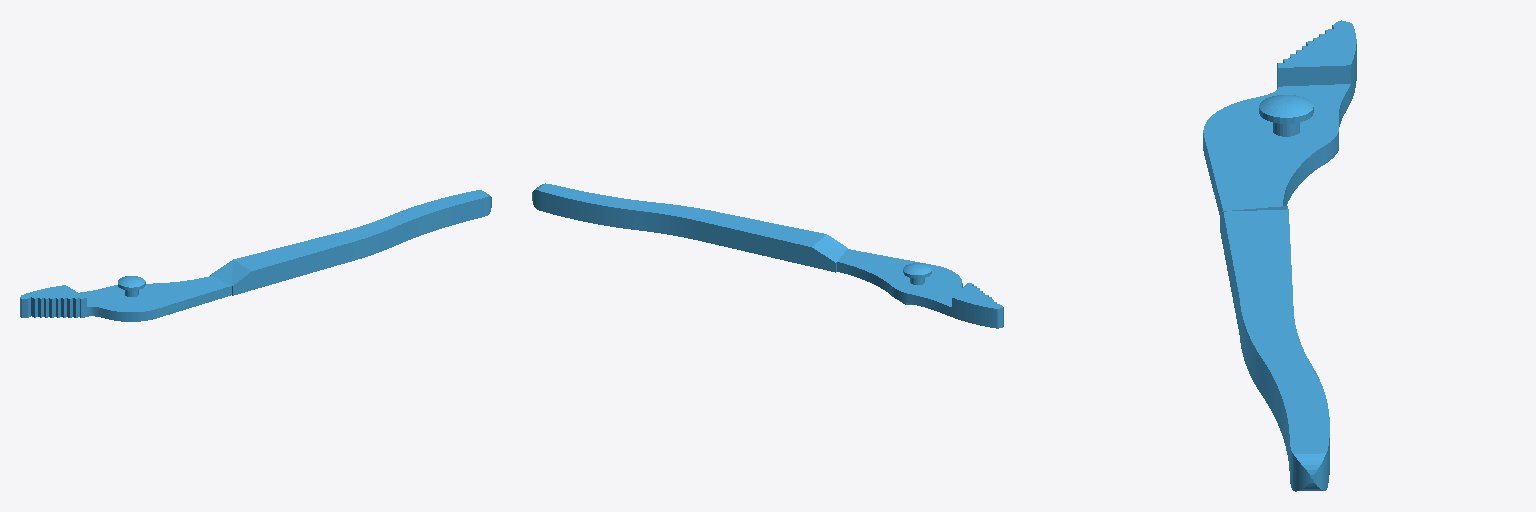
The robot description file, URDF, robot "partnet_f44029207e03c4be4c3aee8e9d3a6ffa":
<?xml version="1.0" ?>
<robot name="partnet_f44029207e03c4be4c3aee8e9d3a6ffa">
	<link name="base"/>
	<link name="link_0">
		<visual name="back_panel-50">
			<origin xyz="0 0 0"/>
			<geometry>
				<mesh filename="textured_objs/original-15.obj"/>
			</geometry>
		</visual>
		<visual name="bottom_panel-51">
			<origin xyz="0 0 0"/>
			<geometry>
				<mesh filename="textured_objs/original-10.obj"/>
			</geometry>
		</visual>
		<visual name="bottom_panel-51">
			<origin xyz="0 0 0"/>
			<geometry>
				<mesh filename="textured_objs/original-9.obj"/>
			</geometry>
		</visual>
		<visual name="top_panel-52">
			<origin xyz="0 0 0"/>
			<geometry>
				<mesh filename="textured_objs/original-13.obj"/>
			</geometry>
		</visual>
		<visual name="top_panel-52">
			<origin xyz="0 0 0"/>
			<geometry>
				<mesh filename="textured_objs/original-12.obj"/>
			</geometry>
		</visual>
		<visual name="frame_horizontal_bar-55">
			<origin xyz="0 0 0"/>
			<geometry>
				<mesh filename="textured_objs/original-16.obj"/>
			</geometry>
		</visual>
		<visual name="frame_horizontal_bar-56">
			<origin xyz="0 0 0"/>
			<geometry>
				<mesh filename="textured_objs/original-14.obj"/>
			</geometry>
		</visual>
		<visual name="vertical_side_panel-59">
			<origin xyz="0 0 0"/>
			<geometry>
				<mesh filename="textured_objs/original-7.obj"/>
			</geometry>
		</visual>
		<visual name="vertical_side_panel-59">
			<origin xyz="0 0 0"/>
			<geometry>
				<mesh filename="textured_objs/original-6.obj"/>
			</geometry>
		</visual>
		<visual name="vertical_side_panel-60">
			<origin xyz="0 0 0"/>
			<geometry>
				<mesh filename="textured_objs/original-4.obj"/>
			</geometry>
		</visual>
		<visual name="vertical_side_panel-60">
			<origin xyz="0 0 0"/>
			<geometry>
				<mesh filename="textured_objs/original-3.obj"/>
			</geometry>
		</visual>
		<collision>
			<origin xyz="0 0 0"/>
			<geometry>
				<mesh filename="textured_objs/original-15.obj"/>
			</geometry>
		</collision>
		<collision>
			<origin xyz="0 0 0"/>
			<geometry>
				<mesh filename="textured_objs/original-10.obj"/>
			</geometry>
		</collision>
		<collision>
			<origin xyz="0 0 0"/>
			<geometry>
				<mesh filename="textured_objs/original-9.obj"/>
			</geometry>
		</collision>
		<collision>
			<origin xyz="0 0 0"/>
			<geometry>
				<mesh filename="textured_objs/original-13.obj"/>
			</geometry>
		</collision>
		<collision>
			<origin xyz="0 0 0"/>
			<geometry>
				<mesh filename="textured_objs/original-12.obj"/>
			</geometry>
		</collision>
		<collision>
			<origin xyz="0 0 0"/>
			<geometry>
				<mesh filename="textured_objs/original-16.obj"/>
			</geometry>
		</collision>
		<collision>
			<origin xyz="0 0 0"/>
			<geometry>
				<mesh filename="textured_objs/original-14.obj"/>
			</geometry>
		</collision>
		<collision>
			<origin xyz="0 0 0"/>
			<geometry>
				<mesh filename="textured_objs/original-7.obj"/>
			</geometry>
		</collision>
		<collision>
			<origin xyz="0 0 0"/>
			<geometry>
				<mesh filename="textured_objs/original-6.obj"/>
			</geometry>
		</collision>
		<collision>
			<origin xyz="0 0 0"/>
			<geometry>
				<mesh filename="textured_objs/original-4.obj"/>
			</geometry>
		</collision>
		<collision>
			<origin xyz="0 0 0"/>
			<geometry>
				<mesh filename="textured_objs/original-3.obj"/>
			</geometry>
		</collision>
	</link>
	<joint name="joint_0" type="fixed">
		<origin rpy="1.570796326794897 0 -1.570796326794897" xyz="0 0 0"/>
		<child link="link_0"/>
		<parent link="base"/>
	</joint>
	<link name="link_1">
		<visual name="drawer_front-43">
			<origin xyz="0 0 0"/>
			<geometry>
				<mesh filename="textured_objs/original-18.obj"/>
			</geometry>
		</visual>
		<visual name="drawer_front-43">
			<origin xyz="0 0 0"/>
			<geometry>
				<mesh filename="textured_objs/original-25.obj"/>
			</geometry>
		</visual>
		<visual name="drawer_side-44">
			<origin xyz="0 0 0"/>
			<geometry>
				<mesh filename="textured_objs/original-24.obj"/>
			</geometry>
		</visual>
		<visual name="drawer_side-45">
			<origin xyz="0 0 0"/>
			<geometry>
				<mesh filename="textured_objs/original-23.obj"/>
			</geometry>
		</visual>
		<visual name="drawer_back-46">
			<origin xyz="0 0 0"/>
			<geometry>
				<mesh filename="textured_objs/original-26.obj"/>
			</geometry>
		</visual>
		<visual name="drawer_bottom-47">
			<origin xyz="0 0 0"/>
			<geometry>
				<mesh filename="textured_objs/original-21.obj"/>
			</geometry>
		</visual>
		<visual name="drawer_bottom-47">
			<origin xyz="0 0 0"/>
			<geometry>
				<mesh filename="textured_objs/original-22.obj"/>
			</geometry>
		</visual>
		<visual name="handle-40">
			<origin xyz="0 0 0"/>
			<geometry>
				<mesh filename="textured_objs/original-31.obj"/>
			</geometry>
		</visual>
		<visual name="handle-40">
			<origin xyz="0 0 0"/>
			<geometry>
				<mesh filename="textured_objs/original-30.obj"/>
			</geometry>
		</visual>
		<visual name="handle-40">
			<origin xyz="0 0 0"/>
			<geometry>
				<mesh filename="textured_objs/original-32.obj"/>
			</geometry>
		</visual>
		<visual name="drawer_rails-41">
			<origin xyz="0 0 0"/>
			<geometry>
				<mesh filename="textured_objs/original-27.obj"/>
			</geometry>
		</visual>
		<visual name="drawer_rails-42">
			<origin xyz="0 0 0"/>
			<geometry>
				<mesh filename="textured_objs/original-28.obj"/>
			</geometry>
		</visual>
		<collision>
			<origin xyz="0 0 0"/>
			<geometry>
				<mesh filename="textured_objs/original-18.obj"/>
			</geometry>
		</collision>
		<collision>
			<origin xyz="0 0 0"/>
			<geometry>
				<mesh filename="textured_objs/original-25.obj"/>
			</geometry>
		</collision>
		<collision>
			<origin xyz="0 0 0"/>
			<geometry>
				<mesh filename="textured_objs/original-24.obj"/>
			</geometry>
		</collision>
		<collision>
			<origin xyz="0 0 0"/>
			<geometry>
				<mesh filename="textured_objs/original-23.obj"/>
			</geometry>
		</collision>
		<collision>
			<origin xyz="0 0 0"/>
			<geometry>
				<mesh filename="textured_objs/original-26.obj"/>
			</geometry>
		</collision>
		<collision>
			<origin xyz="0 0 0"/>
			<geometry>
				<mesh filename="textured_objs/original-21.obj"/>
			</geometry>
		</collision>
		<collision>
			<origin xyz="0 0 0"/>
			<geometry>
				<mesh filename="textured_objs/original-22.obj"/>
			</geometry>
		</collision>
		<collision>
			<origin xyz="0 0 0"/>
			<geometry>
				<mesh filename="textured_objs/original-31.obj"/>
			</geometry>
		</collision>
		<collision>
			<origin xyz="0 0 0"/>
			<geometry>
				<mesh filename="textured_objs/original-30.obj"/>
			</geometry>
		</collision>
		<collision>
			<origin xyz="0 0 0"/>
			<geometry>
				<mesh filename="textured_objs/original-32.obj"/>
			</geometry>
		</collision>
		<collision>
			<origin xyz="0 0 0"/>
			<geometry>
				<mesh filename="textured_objs/original-27.obj"/>
			</geometry>
		</collision>
		<collision>
			<origin xyz="0 0 0"/>
			<geometry>
				<mesh filename="textured_objs/original-28.obj"/>
			</geometry>
		</collision>
	</link>
	<joint name="joint_1" type="prismatic">
		<origin xyz="0 0 0"/>
		<axis xyz="0 0 1"/>
		<child link="link_1"/>
		<parent link="link_0"/>
		<limit lower="0" upper="1"/>
	</joint>
	<link name="link_2">
		<visual name="drawer_front-34">
			<origin xyz="0 0 0"/>
			<geometry>
				<mesh filename="textured_objs/original-34.obj"/>
			</geometry>
		</visual>
		<visual name="drawer_front-34">
			<origin xyz="0 0 0"/>
			<geometry>
				<mesh filename="textured_objs/original-41.obj"/>
			</geometry>
		</visual>
		<visual name="drawer_side-35">
			<origin xyz="0 0 0"/>
			<geometry>
				<mesh filename="textured_objs/original-39.obj"/>
			</geometry>
		</visual>
		<visual name="drawer_side-36">
			<origin xyz="0 0 0"/>
			<geometry>
				<mesh filename="textured_objs/original-40.obj"/>
			</geometry>
		</visual>
		<visual name="drawer_back-37">
			<origin xyz="0 0 0"/>
			<geometry>
				<mesh filename="textured_objs/original-42.obj"/>
			</geometry>
		</visual>
		<visual name="drawer_bottom-38">
			<origin xyz="0 0 0"/>
			<geometry>
				<mesh filename="textured_objs/original-37.obj"/>
			</geometry>
		</visual>
		<visual name="drawer_bottom-38">
			<origin xyz="0 0 0"/>
			<geometry>
				<mesh filename="textured_objs/original-38.obj"/>
			</geometry>
		</visual>
		<visual name="handle-31">
			<origin xyz="0 0 0"/>
			<geometry>
				<mesh filename="textured_objs/original-46.obj"/>
			</geometry>
		</visual>
		<visual name="handle-31">
			<origin xyz="0 0 0"/>
			<geometry>
				<mesh filename="textured_objs/original-47.obj"/>
			</geometry>
		</visual>
		<visual name="handle-31">
			<origin xyz="0 0 0"/>
			<geometry>
				<mesh filename="textured_objs/original-48.obj"/>
			</geometry>
		</visual>
		<visual name="drawer_rails-32">
			<origin xyz="0 0 0"/>
			<geometry>
				<mesh filename="textured_objs/original-43.obj"/>
			</geometry>
		</visual>
		<visual name="drawer_rails-33">
			<origin xyz="0 0 0"/>
			<geometry>
				<mesh filename="textured_objs/original-44.obj"/>
			</geometry>
		</visual>
		<collision>
			<origin xyz="0 0 0"/>
			<geometry>
				<mesh filename="textured_objs/original-34.obj"/>
			</geometry>
		</collision>
		<collision>
			<origin xyz="0 0 0"/>
			<geometry>
				<mesh filename="textured_objs/original-41.obj"/>
			</geometry>
		</collision>
		<collision>
			<origin xyz="0 0 0"/>
			<geometry>
				<mesh filename="textured_objs/original-39.obj"/>
			</geometry>
		</collision>
		<collision>
			<origin xyz="0 0 0"/>
			<geometry>
				<mesh filename="textured_objs/original-40.obj"/>
			</geometry>
		</collision>
		<collision>
			<origin xyz="0 0 0"/>
			<geometry>
				<mesh filename="textured_objs/original-42.obj"/>
			</geometry>
		</collision>
		<collision>
			<origin xyz="0 0 0"/>
			<geometry>
				<mesh filename="textured_objs/original-37.obj"/>
			</geometry>
		</collision>
		<collision>
			<origin xyz="0 0 0"/>
			<geometry>
				<mesh filename="textured_objs/original-38.obj"/>
			</geometry>
		</collision>
		<collision>
			<origin xyz="0 0 0"/>
			<geometry>
				<mesh filename="textured_objs/original-46.obj"/>
			</geometry>
		</collision>
		<collision>
			<origin xyz="0 0 0"/>
			<geometry>
				<mesh filename="textured_objs/original-47.obj"/>
			</geometry>
		</collision>
		<collision>
			<origin xyz="0 0 0"/>
			<geometry>
				<mesh filename="textured_objs/original-48.obj"/>
			</geometry>
		</collision>
		<collision>
			<origin xyz="0 0 0"/>
			<geometry>
				<mesh filename="textured_objs/original-43.obj"/>
			</geometry>
		</collision>
		<collision>
			<origin xyz="0 0 0"/>
			<geometry>
				<mesh filename="textured_objs/original-44.obj"/>
			</geometry>
		</collision>
	</link>
	<joint name="joint_2" type="prismatic">
		<origin xyz="0 0 0"/>
		<axis xyz="0 0 1"/>
		<child link="link_2"/>
		<parent link="link_0"/>
		<limit lower="0" upper="1"/>
	</joint>
	<link name="link_3">
		<visual name="drawer_front-25">
			<origin xyz="0 0 0"/>
			<geometry>
				<mesh filename="textured_objs/original-50.obj"/>
			</geometry>
		</visual>
		<visual name="drawer_front-25">
			<origin xyz="0 0 0"/>
			<geometry>
				<mesh filename="textured_objs/original-57.obj"/>
			</geometry>
		</visual>
		<visual name="drawer_side-26">
			<origin xyz="0 0 0"/>
			<geometry>
				<mesh filename="textured_objs/original-55.obj"/>
			</geometry>
		</visual>
		<visual name="drawer_side-27">
			<origin xyz="0 0 0"/>
			<geometry>
				<mesh filename="textured_objs/original-56.obj"/>
			</geometry>
		</visual>
		<visual name="drawer_back-28">
			<origin xyz="0 0 0"/>
			<geometry>
				<mesh filename="textured_objs/original-58.obj"/>
			</geometry>
		</visual>
		<visual name="drawer_bottom-29">
			<origin xyz="0 0 0"/>
			<geometry>
				<mesh filename="textured_objs/original-53.obj"/>
			</geometry>
		</visual>
		<visual name="drawer_bottom-29">
			<origin xyz="0 0 0"/>
			<geometry>
				<mesh filename="textured_objs/original-54.obj"/>
			</geometry>
		</visual>
		<visual name="handle-22">
			<origin xyz="0 0 0"/>
			<geometry>
				<mesh filename="textured_objs/original-62.obj"/>
			</geometry>
		</visual>
		<visual name="handle-22">
			<origin xyz="0 0 0"/>
			<geometry>
				<mesh filename="textured_objs/original-63.obj"/>
			</geometry>
		</visual>
		<visual name="handle-22">
			<origin xyz="0 0 0"/>
			<geometry>
				<mesh filename="textured_objs/original-64.obj"/>
			</geometry>
		</visual>
		<visual name="drawer_rails-23">
			<origin xyz="0 0 0"/>
			<geometry>
				<mesh filename="textured_objs/original-60.obj"/>
			</geometry>
		</visual>
		<visual name="drawer_rails-24">
			<origin xyz="0 0 0"/>
			<geometry>
				<mesh filename="textured_objs/original-59.obj"/>
			</geometry>
		</visual>
		<collision>
			<origin xyz="0 0 0"/>
			<geometry>
				<mesh filename="textured_objs/original-50.obj"/>
			</geometry>
		</collision>
		<collision>
			<origin xyz="0 0 0"/>
			<geometry>
				<mesh filename="textured_objs/original-57.obj"/>
			</geometry>
		</collision>
		<collision>
			<origin xyz="0 0 0"/>
			<geometry>
				<mesh filename="textured_objs/original-55.obj"/>
			</geometry>
		</collision>
		<collision>
			<origin xyz="0 0 0"/>
			<geometry>
				<mesh filename="textured_objs/original-56.obj"/>
			</geometry>
		</collision>
		<collision>
			<origin xyz="0 0 0"/>
			<geometry>
				<mesh filename="textured_objs/original-58.obj"/>
			</geometry>
		</collision>
		<collision>
			<origin xyz="0 0 0"/>
			<geometry>
				<mesh filename="textured_objs/original-53.obj"/>
			</geometry>
		</collision>
		<collision>
			<origin xyz="0 0 0"/>
			<geometry>
				<mesh filename="textured_objs/original-54.obj"/>
			</geometry>
		</collision>
		<collision>
			<origin xyz="0 0 0"/>
			<geometry>
				<mesh filename="textured_objs/original-62.obj"/>
			</geometry>
		</collision>
		<collision>
			<origin xyz="0 0 0"/>
			<geometry>
				<mesh filename="textured_objs/original-63.obj"/>
			</geometry>
		</collision>
		<collision>
			<origin xyz="0 0 0"/>
			<geometry>
				<mesh filename="textured_objs/original-64.obj"/>
			</geometry>
		</collision>
		<collision>
			<origin xyz="0 0 0"/>
			<geometry>
				<mesh filename="textured_objs/original-60.obj"/>
			</geometry>
		</collision>
		<collision>
			<origin xyz="0 0 0"/>
			<geometry>
				<mesh filename="textured_objs/original-59.obj"/>
			</geometry>
		</collision>
	</link>
	<joint name="joint_3" type="prismatic">
		<origin xyz="0 0 0"/>
		<axis xyz="0 0 1"/>
		<child link="link_3"/>
		<parent link="link_0"/>
		<limit lower="0" upper="1"/>
	</joint>
	<link name="link_4">
		<visual name="drawer_front-14">
			<origin xyz="0 0 0"/>
			<geometry>
				<mesh filename="textured_objs/original-73.obj"/>
			</geometry>
		</visual>
		<visual name="drawer_front-14">
			<origin xyz="0 0 0"/>
			<geometry>
				<mesh filename="textured_objs/original-66.obj"/>
			</geometry>
		</visual>
		<visual name="drawer_side-15">
			<origin xyz="0 0 0"/>
			<geometry>
				<mesh filename="textured_objs/original-71.obj"/>
			</geometry>
		</visual>
		<visual name="drawer_side-16">
			<origin xyz="0 0 0"/>
			<geometry>
				<mesh filename="textured_objs/original-72.obj"/>
			</geometry>
		</visual>
		<visual name="drawer_back-17">
			<origin xyz="0 0 0"/>
			<geometry>
				<mesh filename="textured_objs/original-74.obj"/>
			</geometry>
		</visual>
		<visual name="drawer_bottom-18">
			<origin xyz="0 0 0"/>
			<geometry>
				<mesh filename="textured_objs/original-69.obj"/>
			</geometry>
		</visual>
		<visual name="drawer_bottom-18">
			<origin xyz="0 0 0"/>
			<geometry>
				<mesh filename="textured_objs/original-70.obj"/>
			</geometry>
		</visual>
		<visual name="handle-8">
			<origin xyz="0 0 0"/>
			<geometry>
				<mesh filename="textured_objs/original-78.obj"/>
			</geometry>
		</visual>
		<visual name="handle-8">
			<origin xyz="0 0 0"/>
			<geometry>
				<mesh filename="textured_objs/original-79.obj"/>
			</geometry>
		</visual>
		<visual name="handle-8">
			<origin xyz="0 0 0"/>
			<geometry>
				<mesh filename="textured_objs/original-80.obj"/>
			</geometry>
		</visual>
		<visual name="drawer_rails-19">
			<origin xyz="0 0 0"/>
			<geometry>
				<mesh filename="textured_objs/original-75.obj"/>
			</geometry>
		</visual>
		<visual name="drawer_rails-20">
			<origin xyz="0 0 0"/>
			<geometry>
				<mesh filename="textured_objs/original-76.obj"/>
			</geometry>
		</visual>
		<collision>
			<origin xyz="0 0 0"/>
			<geometry>
				<mesh filename="textured_objs/original-73.obj"/>
			</geometry>
		</collision>
		<collision>
			<origin xyz="0 0 0"/>
			<geometry>
				<mesh filename="textured_objs/original-66.obj"/>
			</geometry>
		</collision>
		<collision>
			<origin xyz="0 0 0"/>
			<geometry>
				<mesh filename="textured_objs/original-71.obj"/>
			</geometry>
		</collision>
		<collision>
			<origin xyz="0 0 0"/>
			<geometry>
				<mesh filename="textured_objs/original-72.obj"/>
			</geometry>
		</collision>
		<collision>
			<origin xyz="0 0 0"/>
			<geometry>
				<mesh filename="textured_objs/original-74.obj"/>
			</geometry>
		</collision>
		<collision>
			<origin xyz="0 0 0"/>
			<geometry>
				<mesh filename="textured_objs/original-69.obj"/>
			</geometry>
		</collision>
		<collision>
			<origin xyz="0 0 0"/>
			<geometry>
				<mesh filename="textured_objs/original-70.obj"/>
			</geometry>
		</collision>
		<collision>
			<origin xyz="0 0 0"/>
			<geometry>
				<mesh filename="textured_objs/original-78.obj"/>
			</geometry>
		</collision>
		<collision>
			<origin xyz="0 0 0"/>
			<geometry>
				<mesh filename="textured_objs/original-79.obj"/>
			</geometry>
		</collision>
		<collision>
			<origin xyz="0 0 0"/>
			<geometry>
				<mesh filename="textured_objs/original-80.obj"/>
			</geometry>
		</collision>
		<collision>
			<origin xyz="0 0 0"/>
			<geometry>
				<mesh filename="textured_objs/original-75.obj"/>
			</geometry>
		</collision>
		<collision>
			<origin xyz="0 0 0"/>
			<geometry>
				<mesh filename="textured_objs/original-76.obj"/>
			</geometry>
		</collision>
	</link>
	<joint name="joint_4" type="prismatic">
		<origin xyz="0 0 0"/>
		<axis xyz="0 0 1"/>
		<child link="link_4"/>
		<parent link="link_0"/>
		<limit lower="0" upper="1"/>
	</joint>
</robot>

--- What the picture shows (computed from the rendered views, not written in the file) ---
The picture shows the robot from 3 angles, left to right: view 1: azimuth 30°, elevation 25°; view 2: azimuth 150°, elevation 25°; view 3: azimuth 270°, elevation 25°; orthographic projection.
Robot: partnet_f44029207e03c4be4c3aee8e9d3a6ffa — 6 links, 5 joints (4 prismatic, 1 fixed); root link base; default pose: all joints at 0.
Links seen in each view (by area): view 1: link_0; view 2: link_0; view 3: link_0.
Boxes of the visible links, x1,y1,x2,y2 form: link_0: (20, 190, 491, 321); link_0: (532, 183, 1003, 328); link_0: (1203, 20, 1356, 491).
Size in the robot's own frame: 1.79 by 0.263 by 0.1232 metres.
2 mesh visuals loaded from 59 distinct referenced files (2 OBJ); not drawn: 57 (reference not matched to a file when rendering).